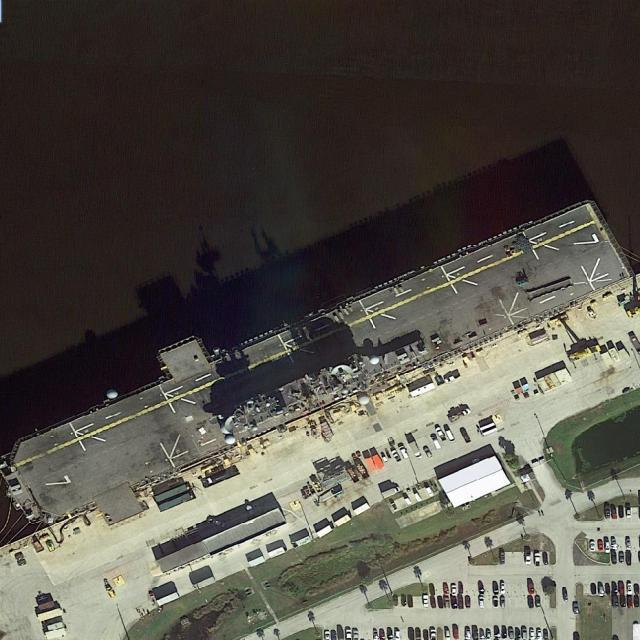Landing: (2, 198, 631, 537)
